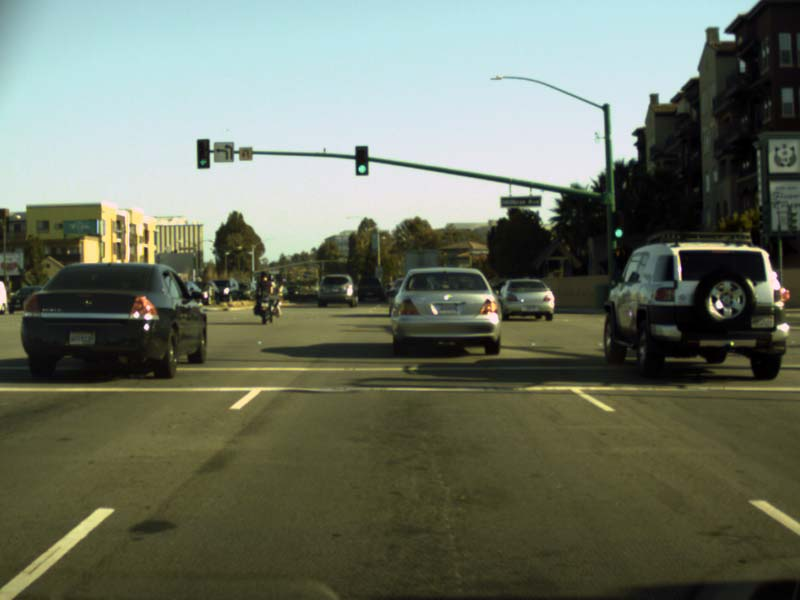Green: (355, 146, 368, 174), (197, 139, 209, 168), (611, 211, 623, 238)
